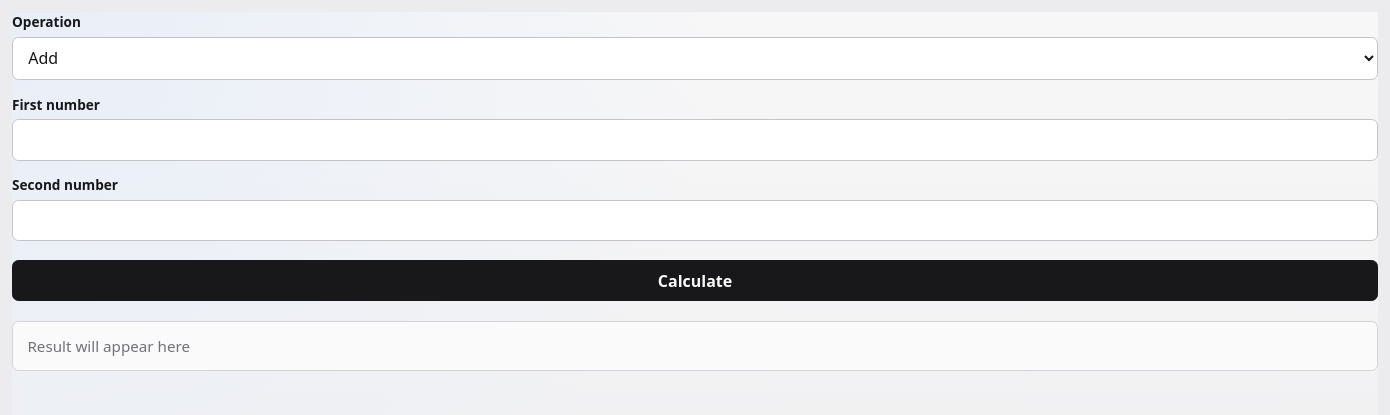
Test: Calculator › renders a backend error message
Step 1. Select "Divide" in the dropdown labelled "Operation" → (695,58), box [12,37,1378,80]
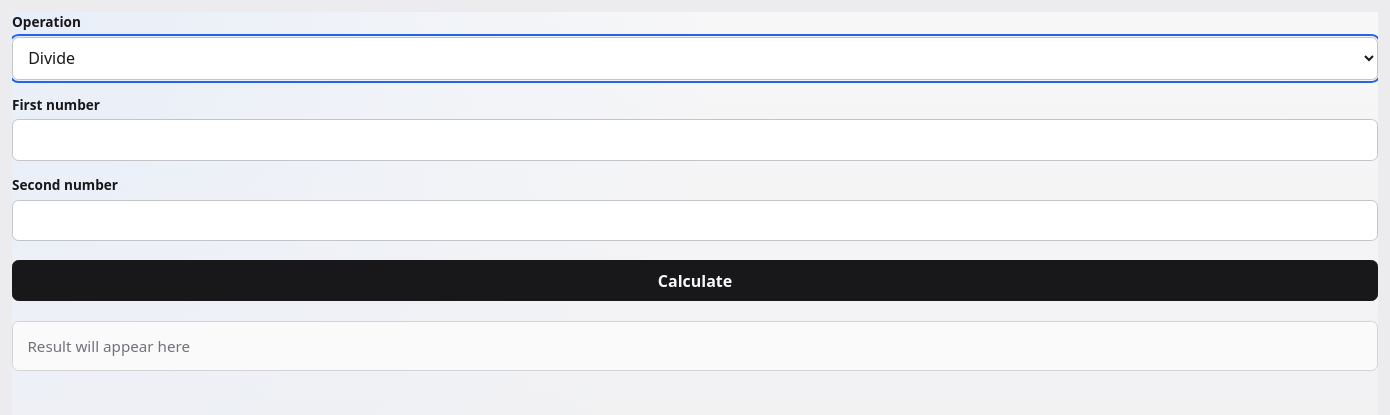
Step 2. Type "10" into the field labelled "First number" → (695,140), box [12,119,1378,161]
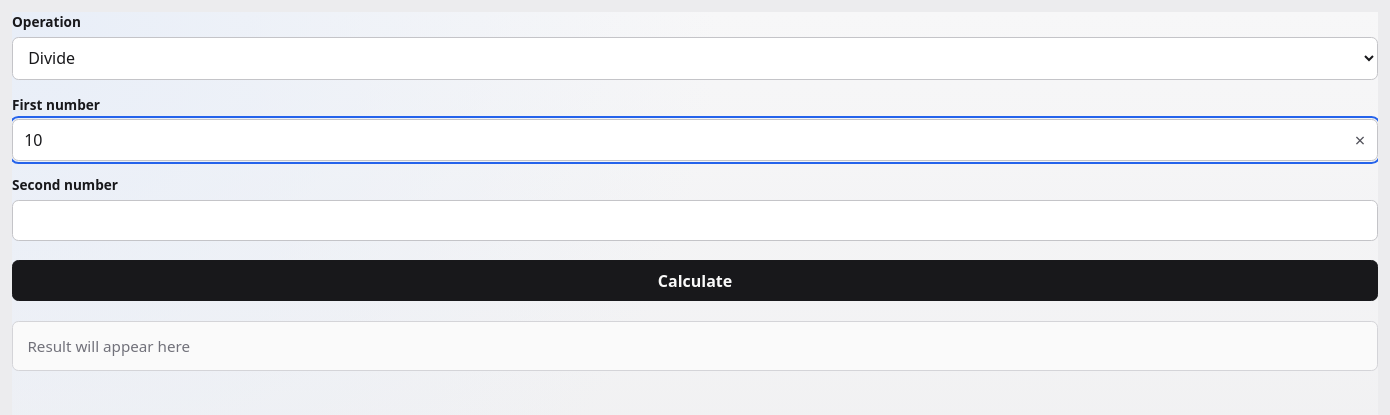
Step 3. Type "0" into the field labelled "Second number" → (695,221), box [12,200,1378,241]
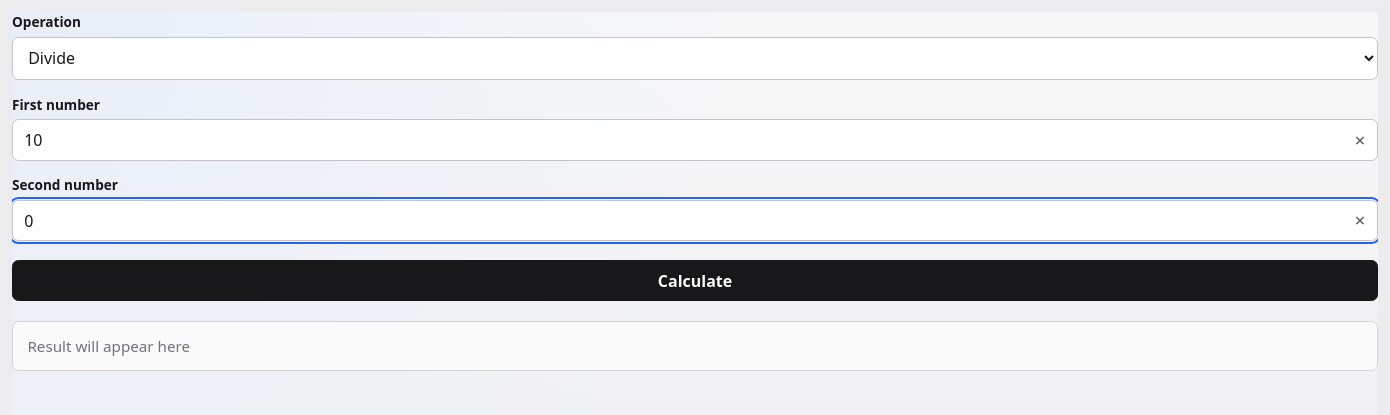
Step 4. Click the button "Calculate" → (695,280), box [12,260,1378,301]
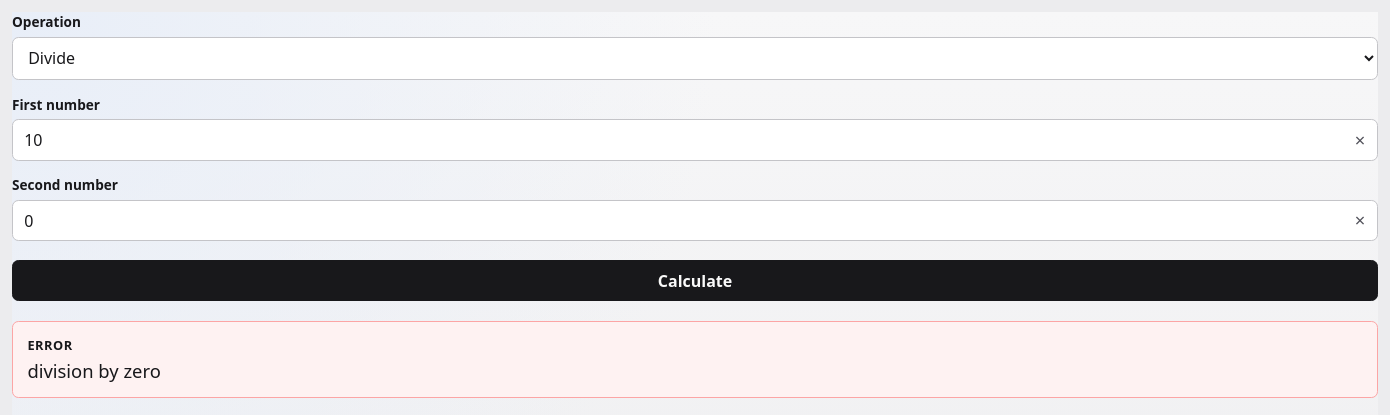
Expected: the message shows "division by zero", [27,358,161,383]
